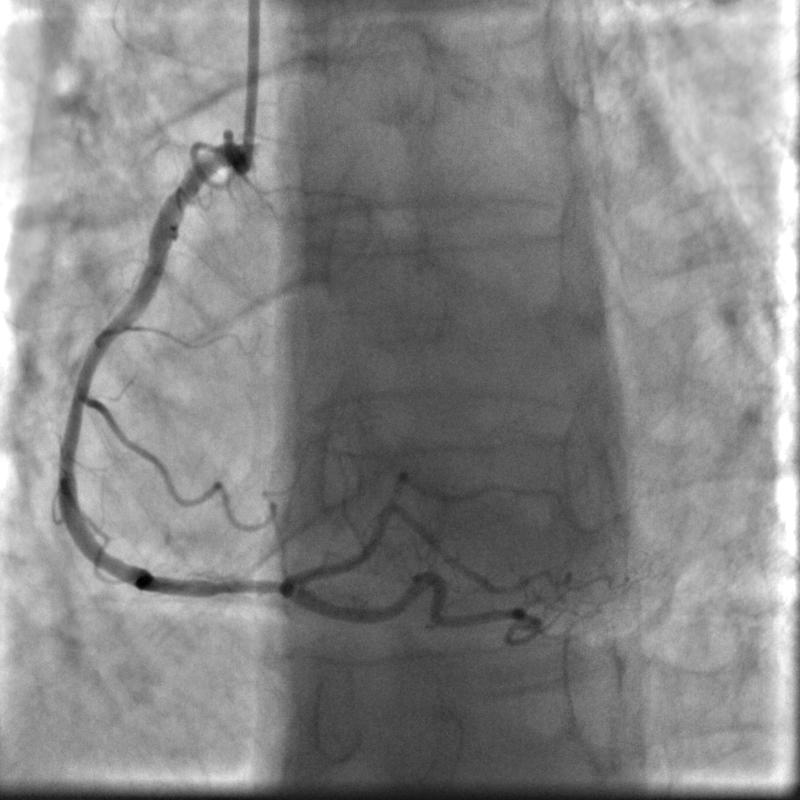Stenosis: (189, 565, 283, 607)
